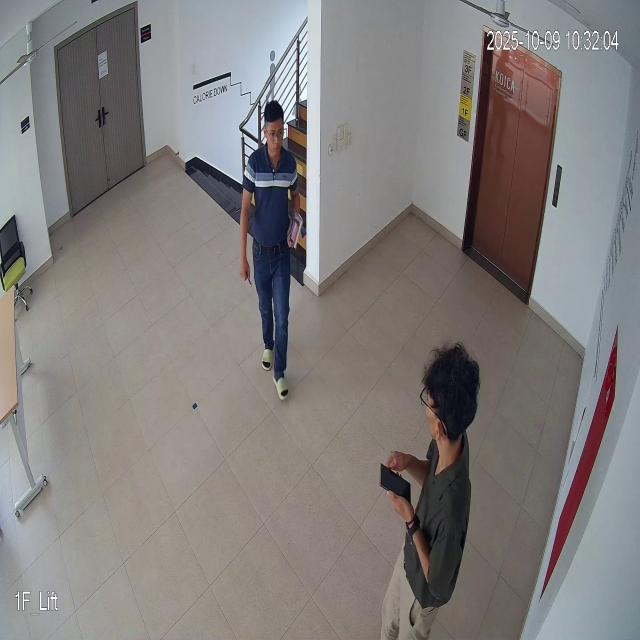face: (257, 99, 290, 165)
